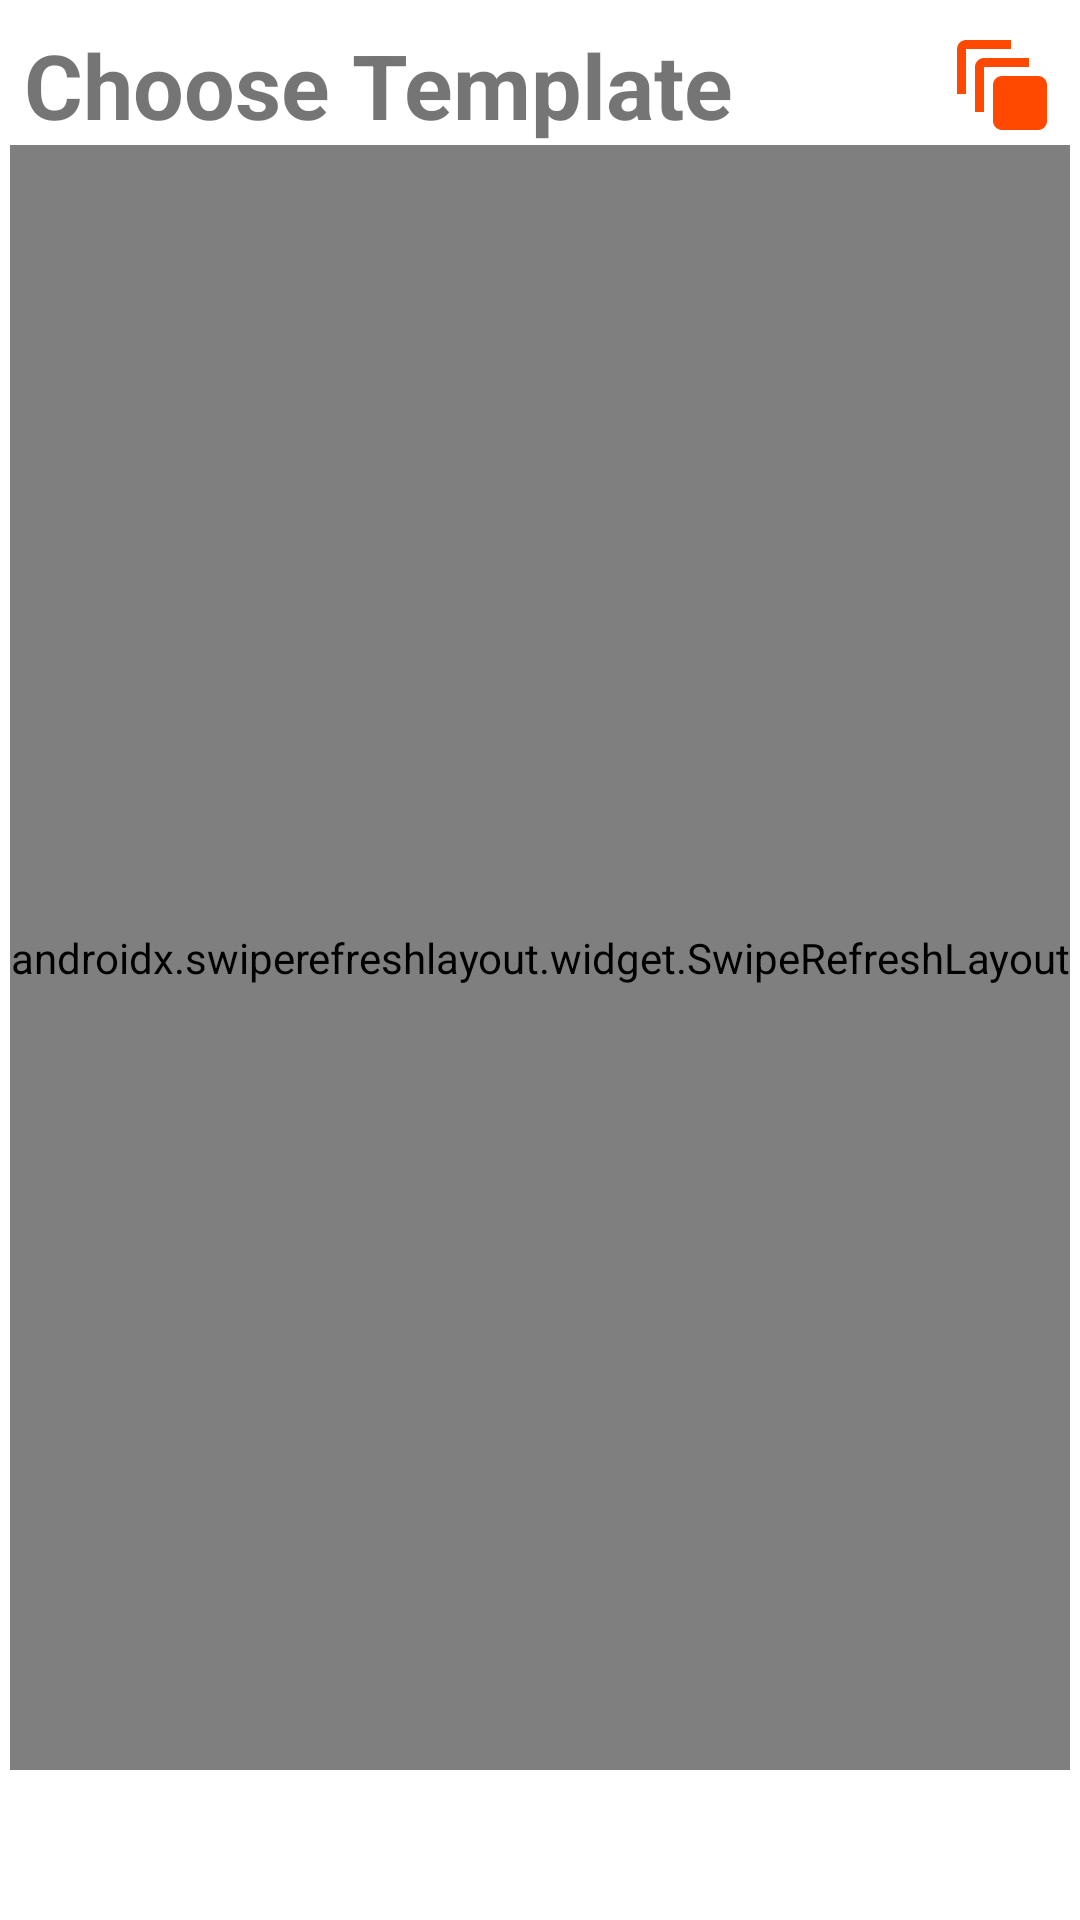

Where to tap for icons on this 1080*1920 app screen, as (x,y):
cards: (1002,85)
